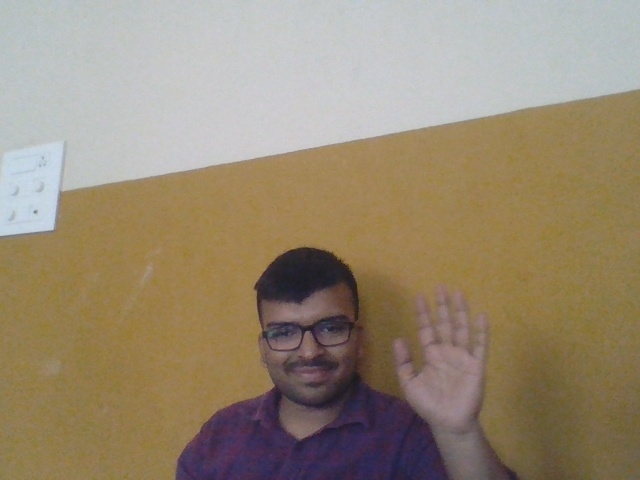Hello: (383, 268, 510, 447)
